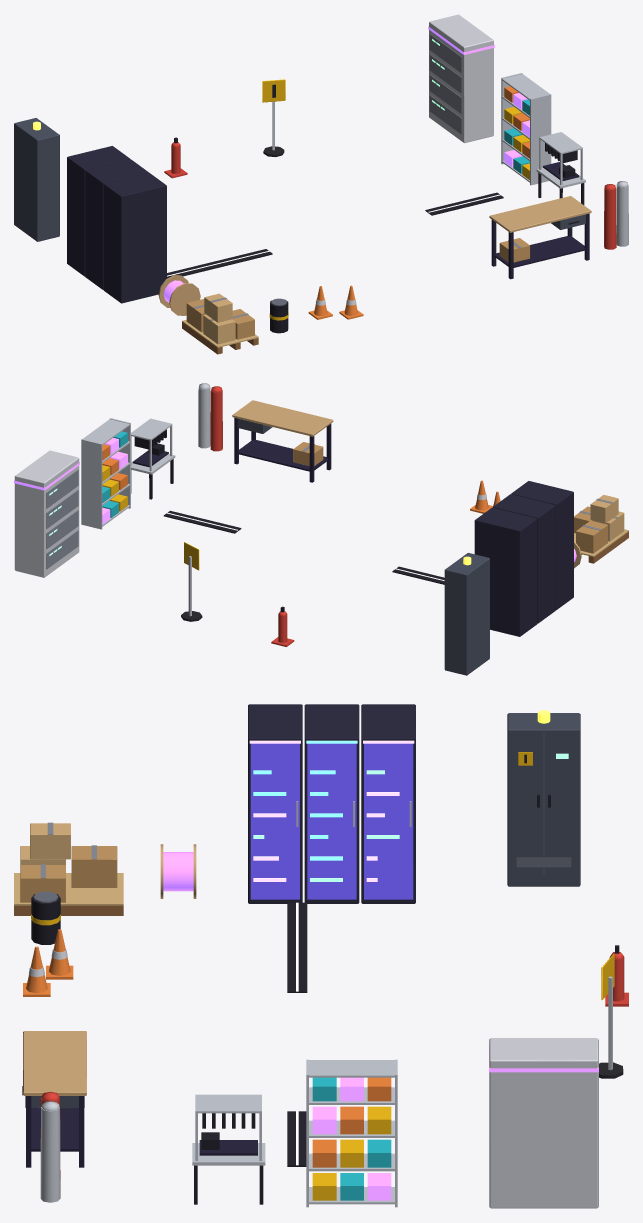
File: einrichtung_halle.glb
3 renders of one model, top to bottom at view 1: azimuth 30°, elevation 25°; view 2: azimuth 150°, elevation 25°; view 3: azimuth 270°, elevation 25°, orthographic. The views are drawn at different scales.
Visible parts, largest first — view 1: einrichtung_halle; view 2: einrichtung_halle; view 3: einrichtung_halle.
Boxes of the visible parts, left/top/right/bottom form: einrichtung_halle: left=14, top=14, right=628, bottom=354; einrichtung_halle: left=14, top=383, right=628, bottom=675; einrichtung_halle: left=14, top=704, right=628, bottom=1208.
Bounding box in the file's own units: 8.8 × 2 × 6.73.
